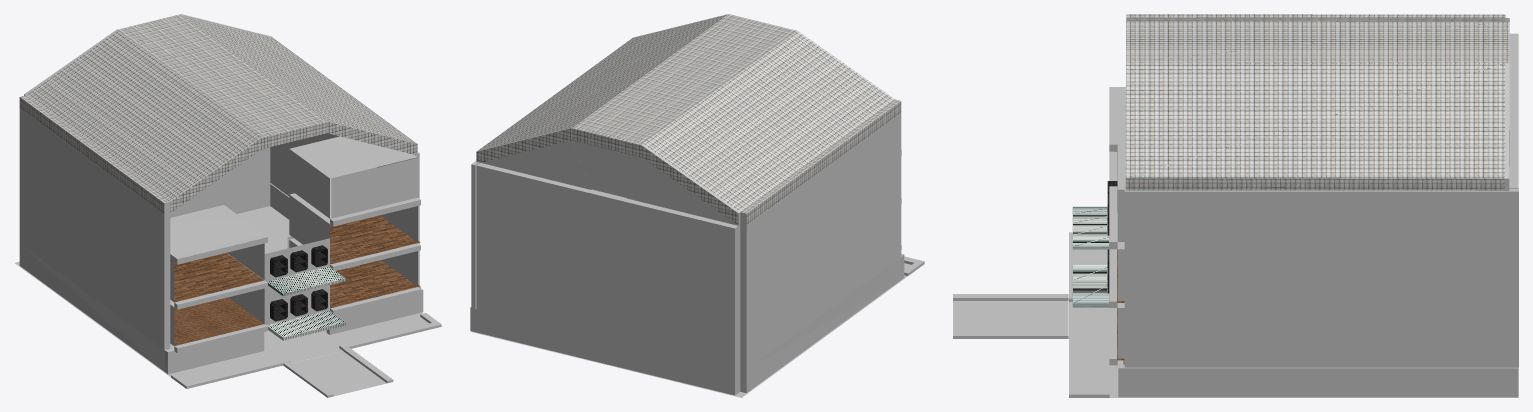
File: CCBlackFinal.fbx
3 renders of one model, left to right at view 1: azimuth 30°, elevation 25°; view 2: azimuth 150°, elevation 25°; view 3: azimuth 270°, elevation 25°, orthographic. The views are drawn at different scales.
Parts seen in each view (by area): view 1: EstructuraMall; view 2: EstructuraMall; view 3: EstructuraMall.
Boxes of the visible parts, x1,y1,x2,y2 form: EstructuraMall: [15, 14, 441, 397]; EstructuraMall: [470, 14, 924, 397]; EstructuraMall: [953, 14, 1518, 397].
Bounding box in the file's own units: 4996 × 3950 × 7337.
